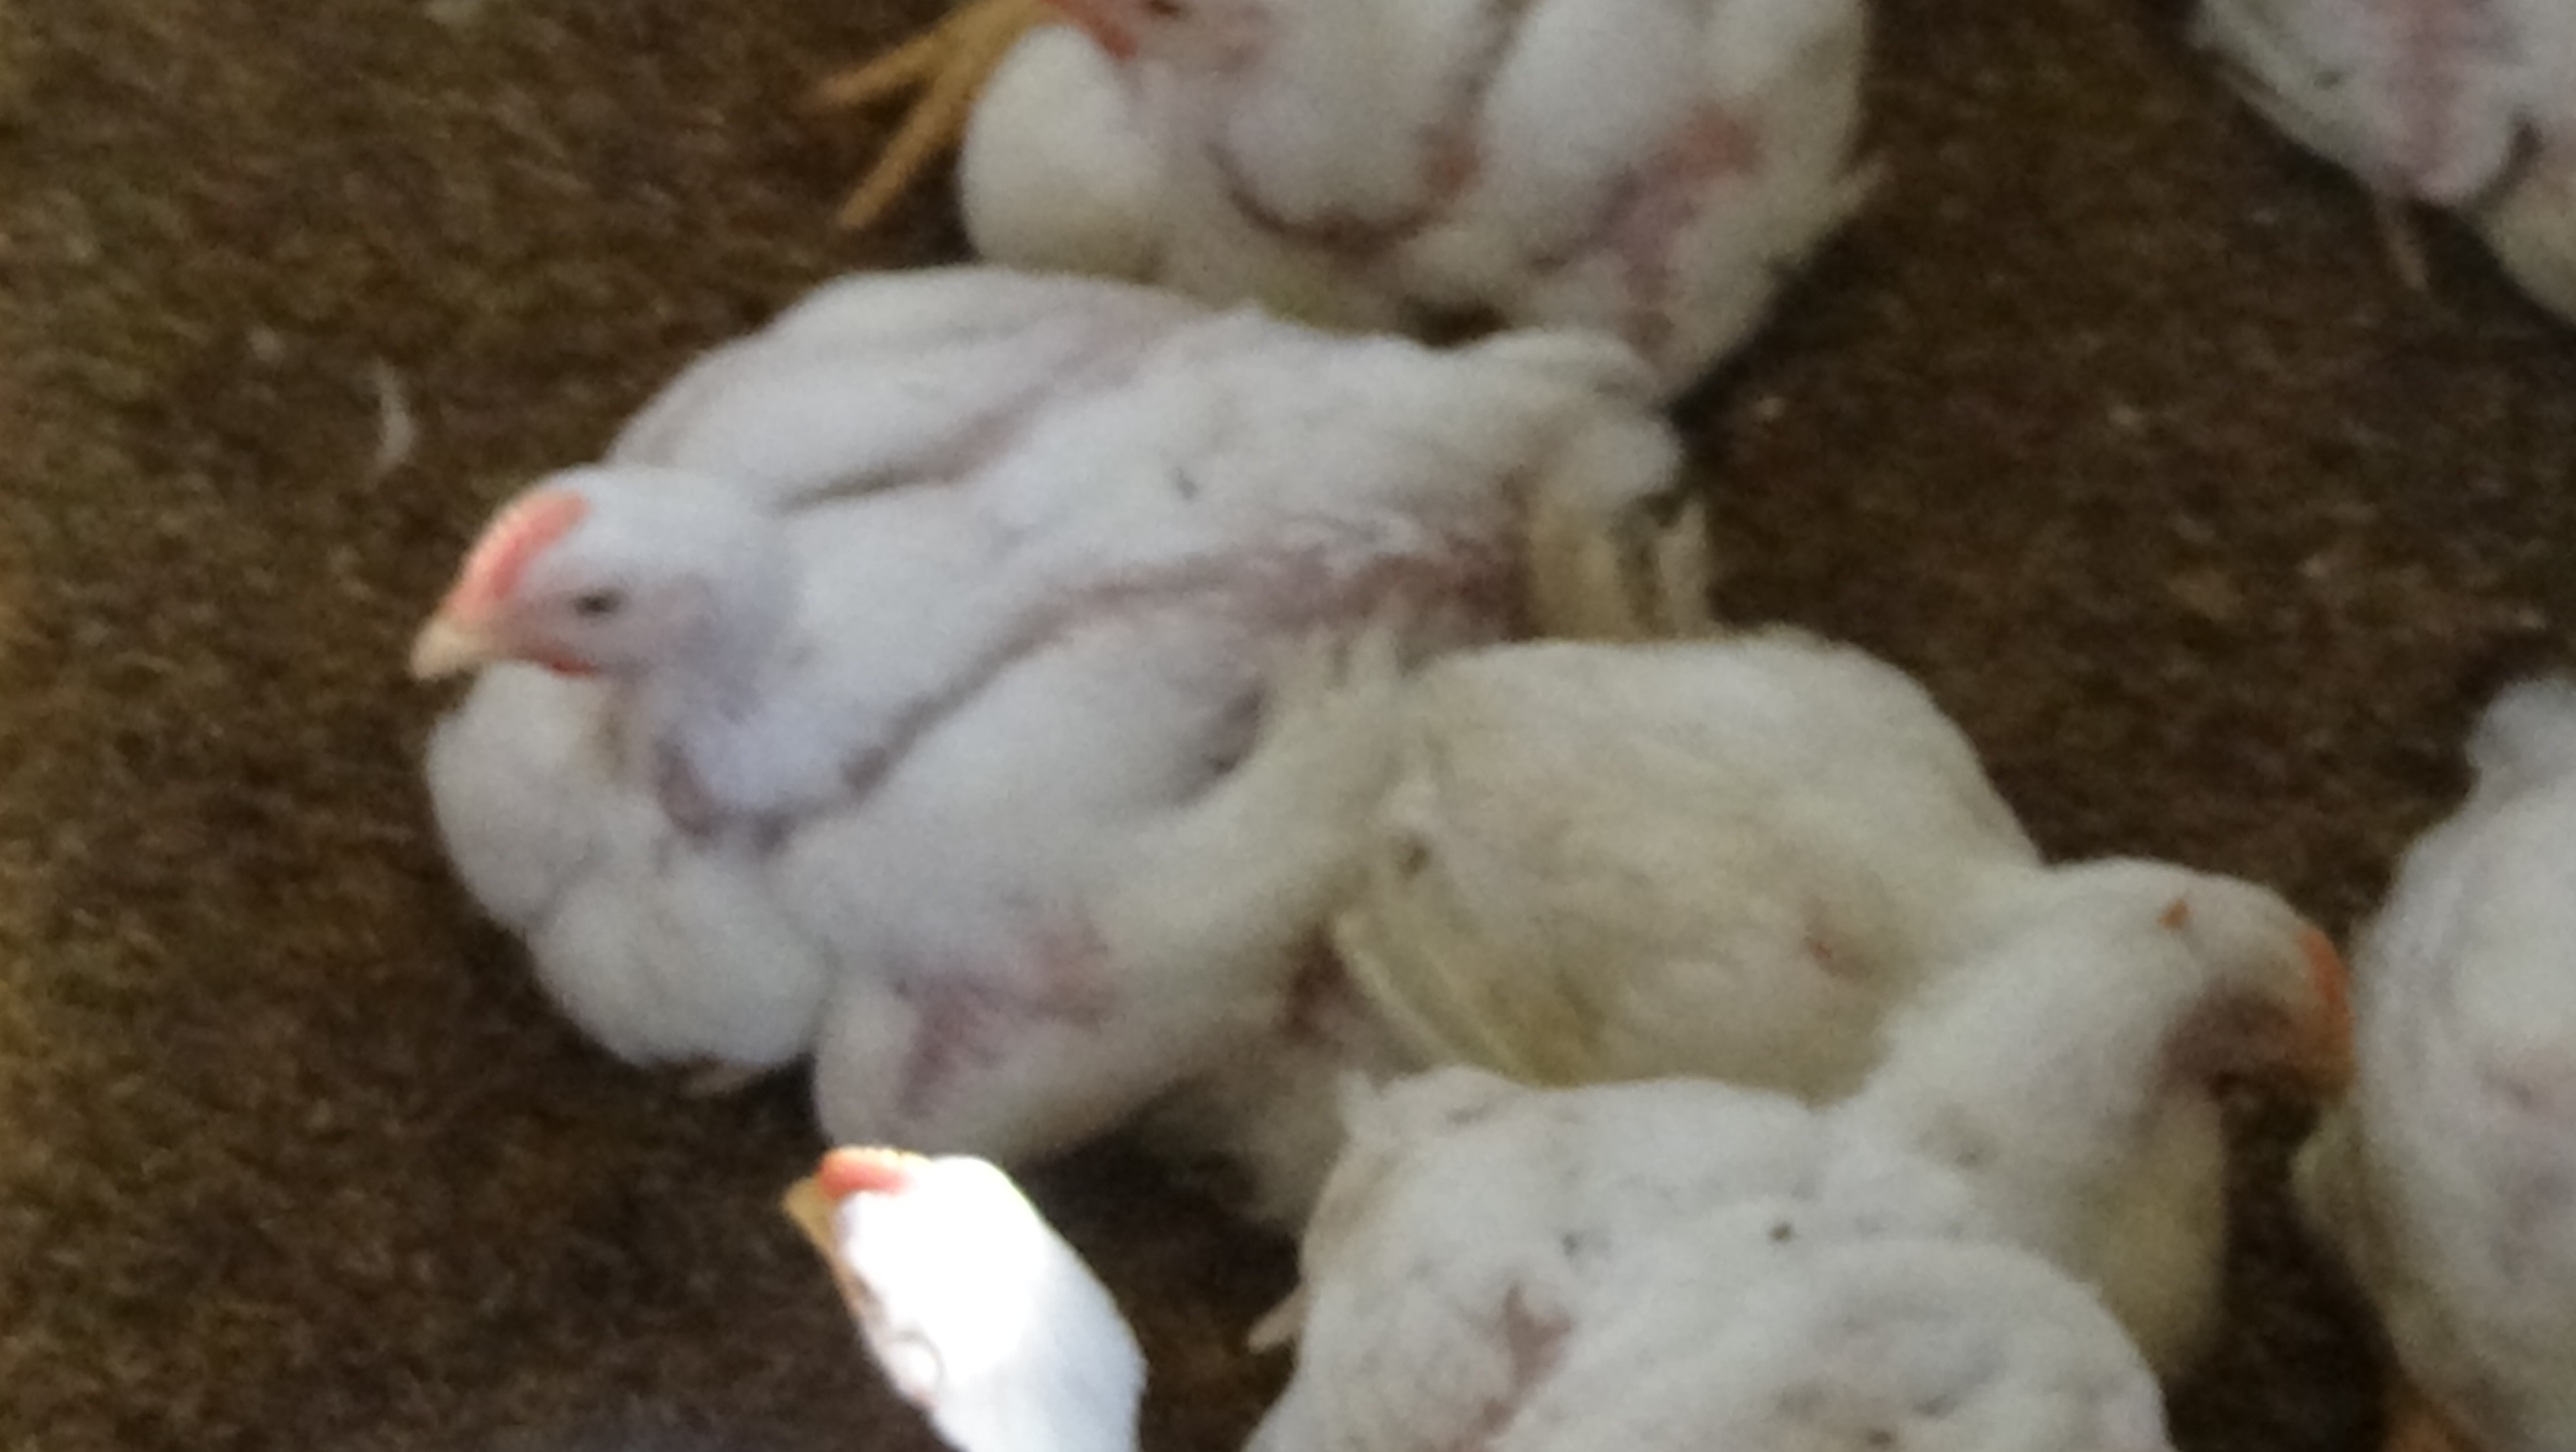Pollos: (317, 218, 1647, 1128), (1240, 790, 2410, 1452), (694, 0, 1953, 423), (706, 1006, 1240, 1452)
